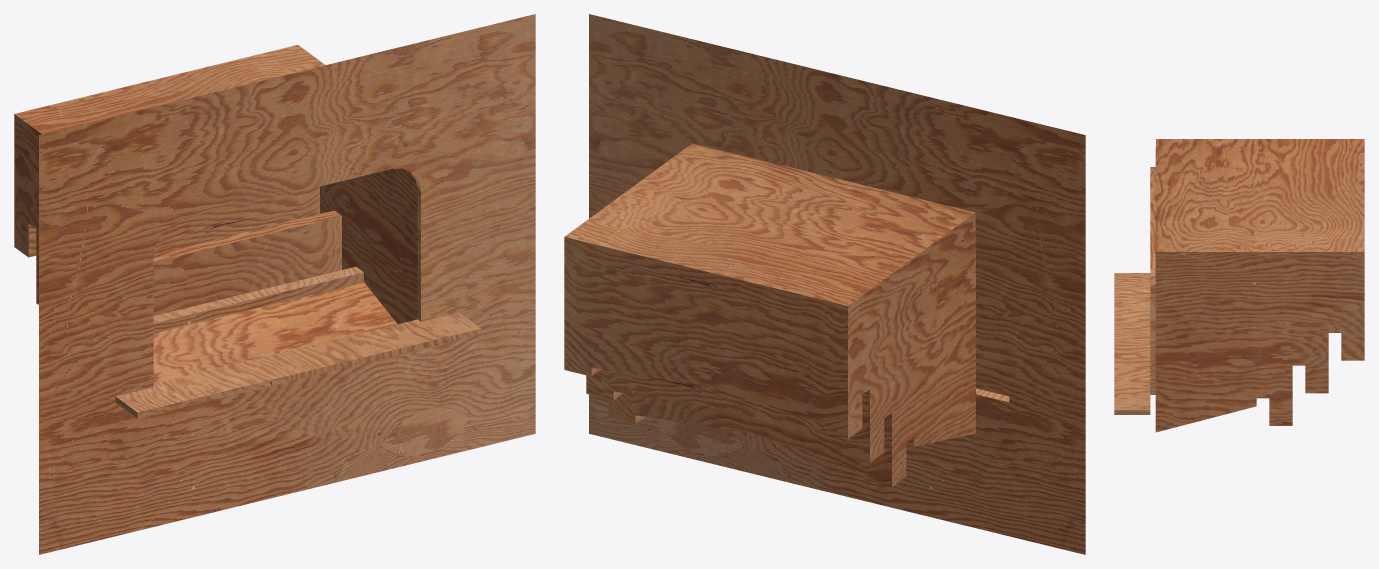
File: Set.fbx
3 views of the same model, side by side, from view 1: azimuth 30°, elevation 25°; view 2: azimuth 150°, elevation 25°; view 3: azimuth 270°, elevation 25° (orthographic). The views are drawn at different scales.
Visible parts, largest first — view 1: Set; view 2: Set; view 3: Set.
Part boxes in pixels (x1,y1,x2,y2): Set: (14, 14, 535, 554); Set: (564, 14, 1085, 554); Set: (1114, 139, 1364, 432).
Bounding box in the file's own units: 2600 × 2100 × 1390.
